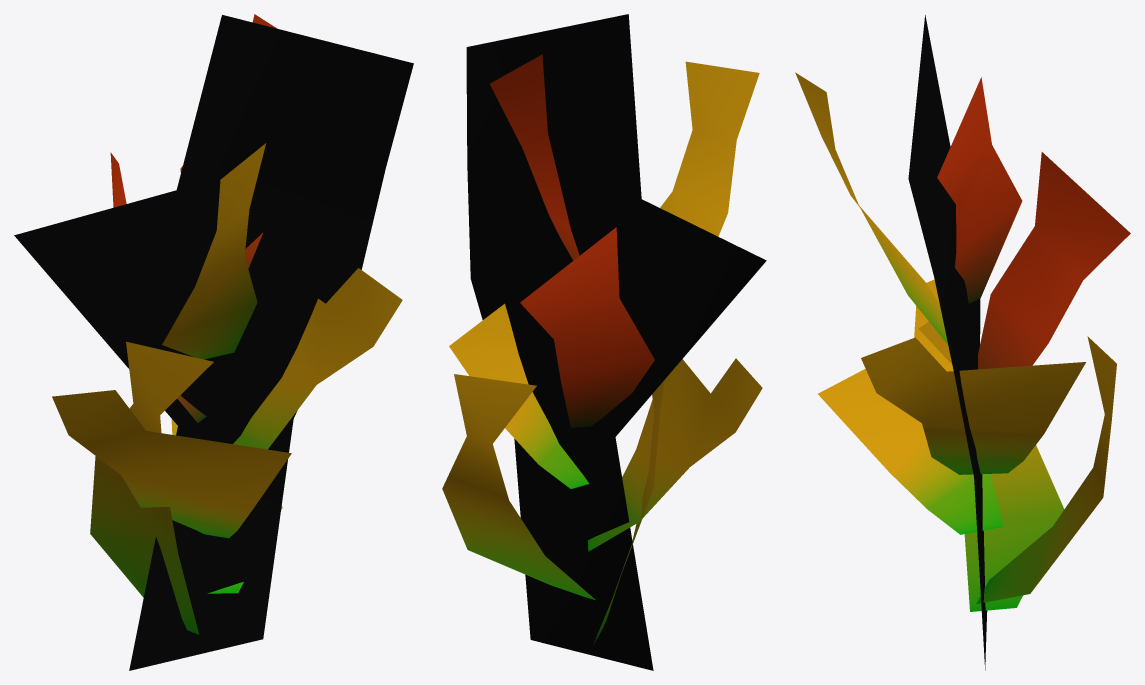
The model's file is Var4Hi9.fbx.
The picture shows the model from 3 angles, left to right: view 1: azimuth 30°, elevation 25°; view 2: azimuth 150°, elevation 25°; view 3: azimuth 270°, elevation 25°; orthographic projection. The views are drawn at different scales.
Parts seen in each view (by area): view 1: bend1; view 2: bend1; view 3: bend1.
Boxes of the visible parts, x1,y1,x2,y2 form: bend1: (14, 14, 413, 670); bend1: (442, 14, 766, 670); bend1: (795, 15, 1130, 670).
Bounding box in the file's own units: 1.31 × 2.31 × 1.13.
